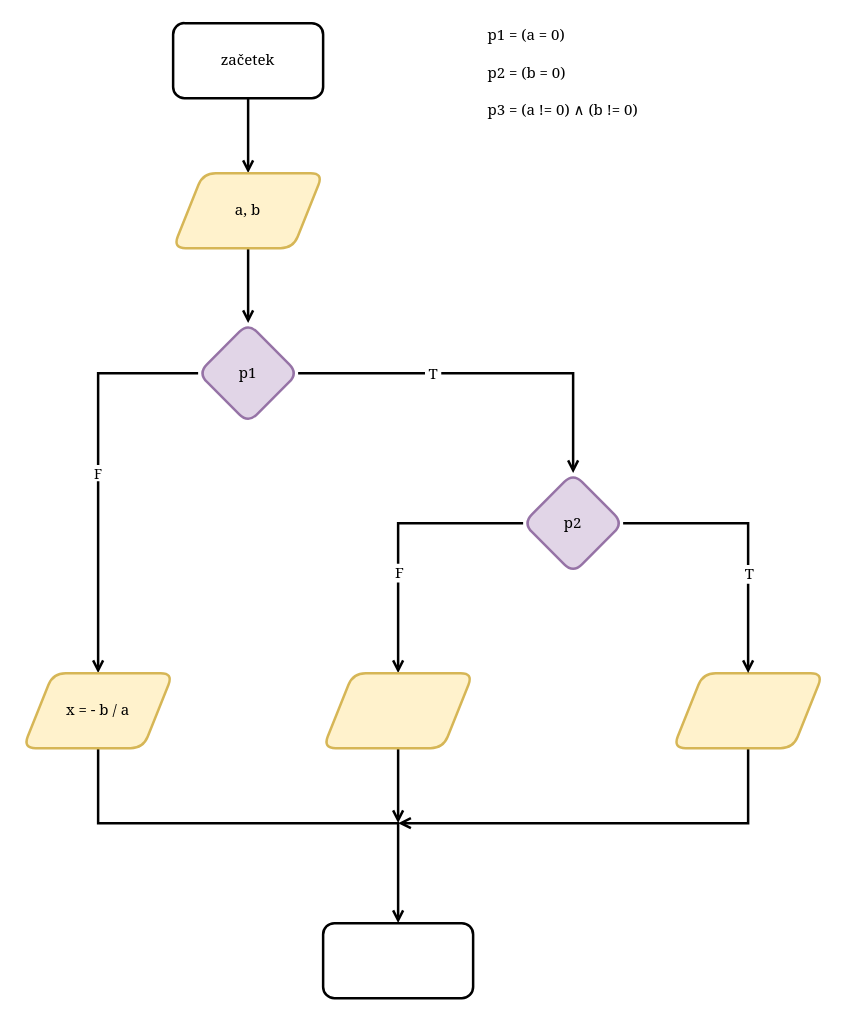
Some shapes in this 845 by 1020 pixel diagram are drawn without their labels. Here are the shapes that lost their labels. From the top down, the centre of each, then its label:
(397,710): prazna množica
(747,710): vsa realna števila
(397,960): konec
